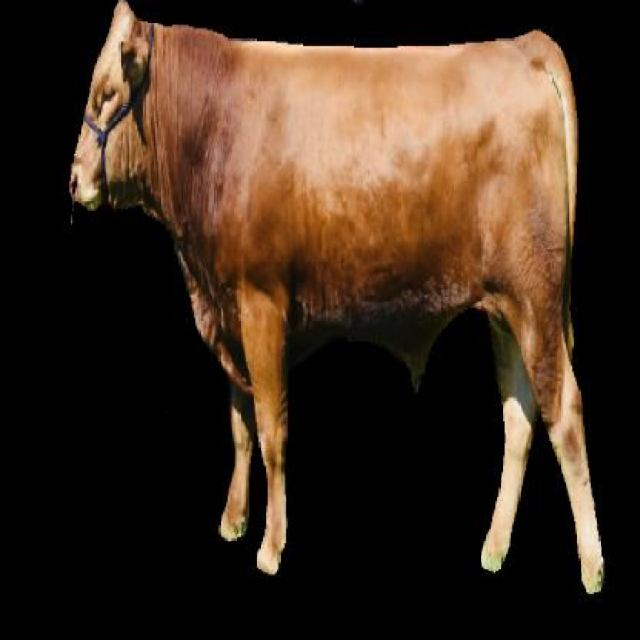Cow: (70, 0, 608, 597)
